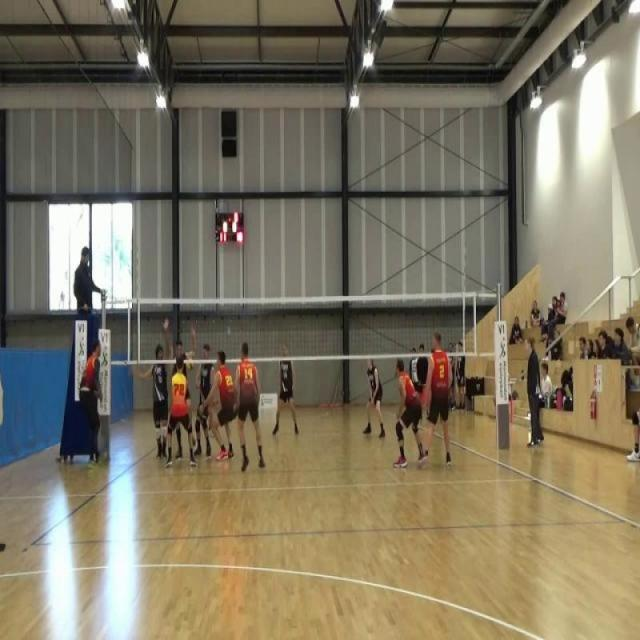volleyball: (186, 358, 194, 372)
